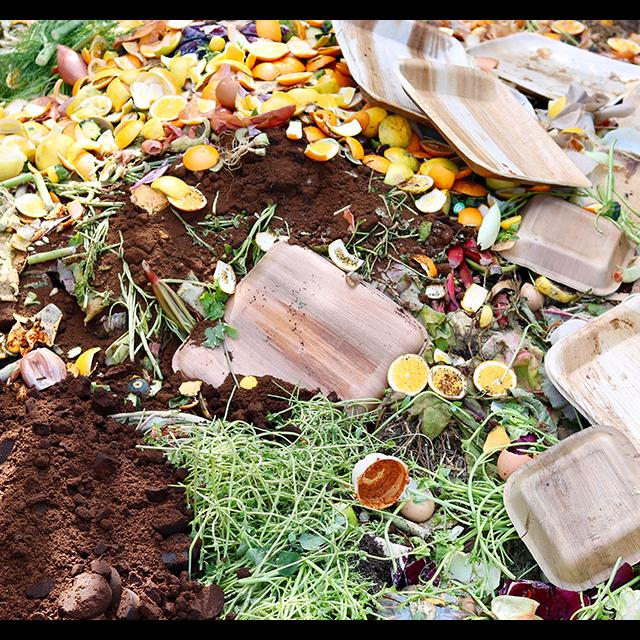food_waste: (387, 48, 603, 209), (260, 227, 448, 393), (475, 415, 640, 598), (535, 270, 640, 487), (475, 25, 640, 126), (514, 185, 640, 301), (0, 480, 134, 553), (120, 402, 230, 480), (156, 487, 259, 562), (32, 545, 132, 602), (598, 145, 640, 250), (18, 394, 89, 456), (224, 162, 292, 216), (202, 42, 253, 109), (9, 347, 79, 393), (56, 140, 112, 197), (132, 80, 190, 123), (267, 58, 326, 98), (54, 94, 127, 126), (147, 171, 190, 221), (242, 20, 288, 66), (177, 132, 230, 171), (424, 362, 477, 400), (383, 356, 439, 389), (0, 131, 33, 181), (294, 141, 343, 172), (91, 60, 140, 91), (472, 354, 505, 398), (0, 227, 19, 288)
